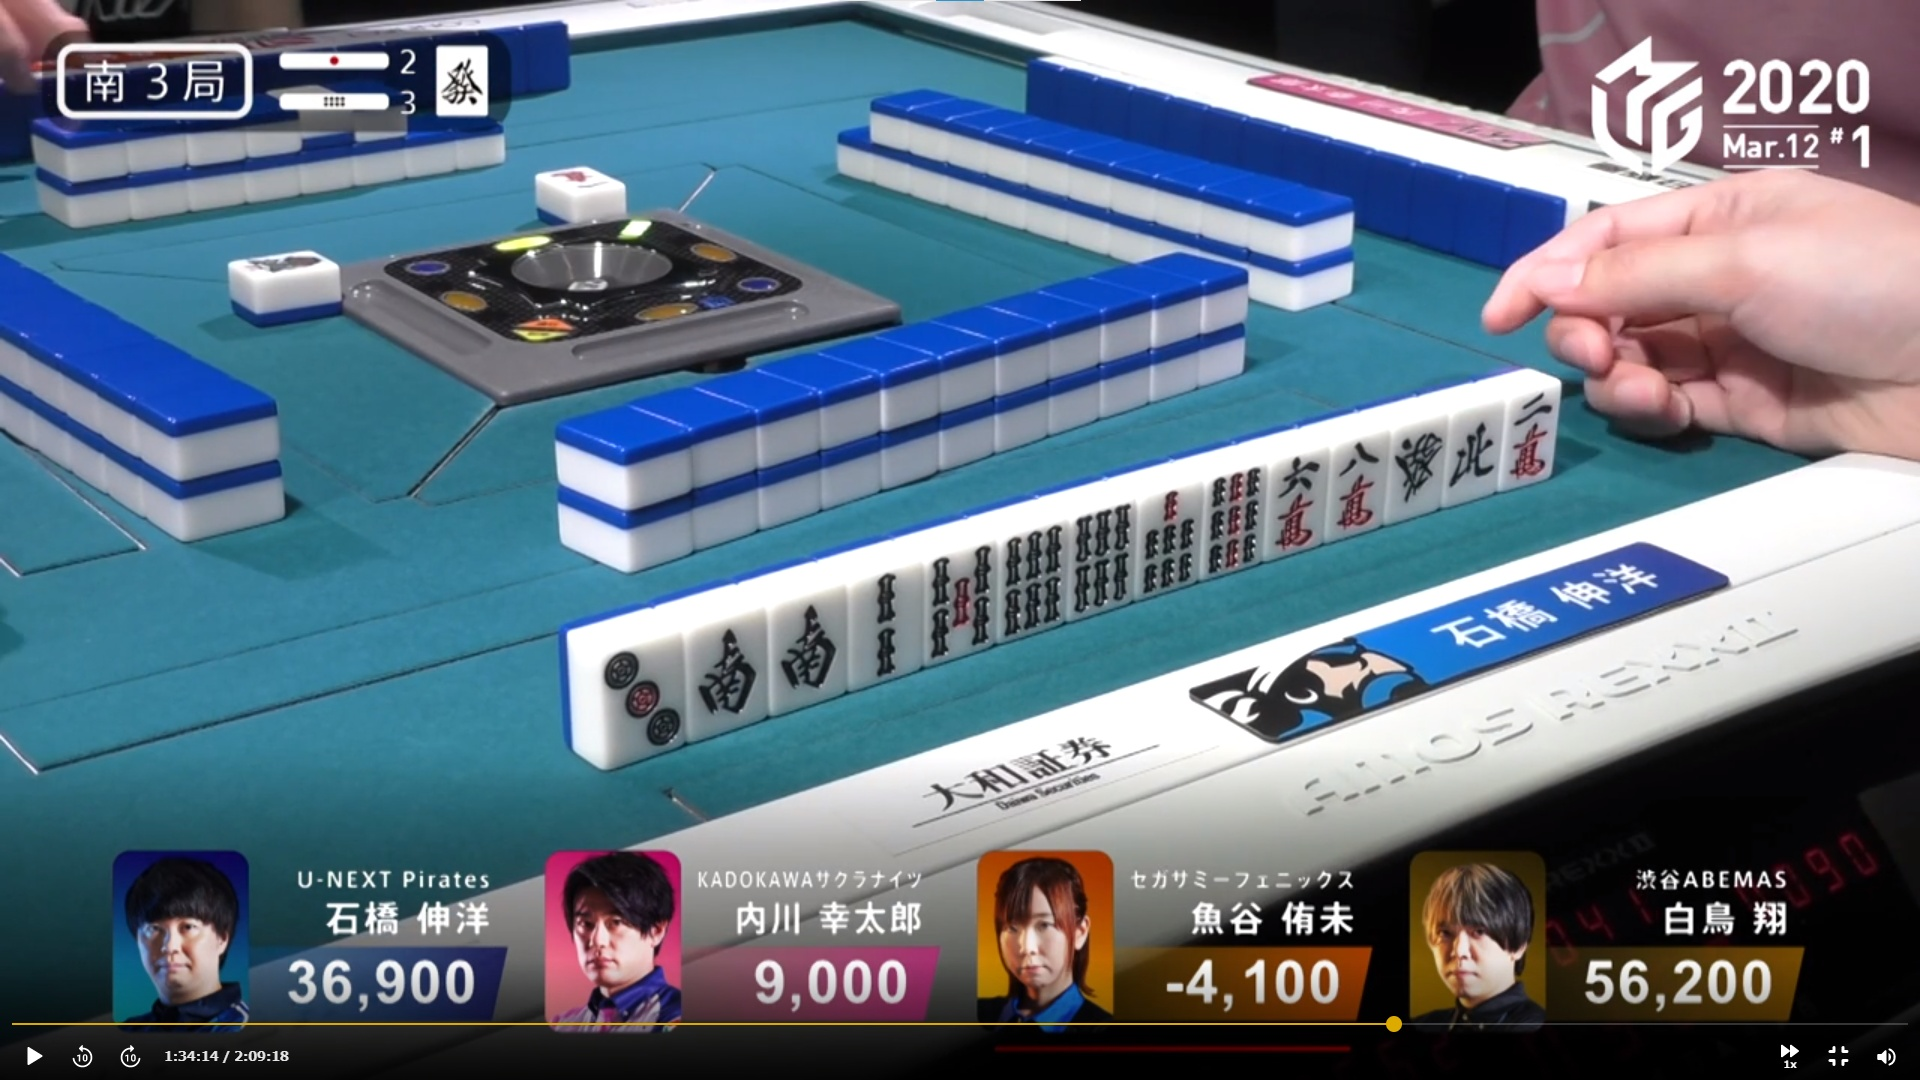2m: (1507, 371, 1549, 487)
2s: (853, 563, 916, 671)
3p: (603, 617, 683, 754)
5s: (920, 531, 988, 655)
6m: (1262, 430, 1321, 556)
6s: (1065, 487, 1130, 617), (996, 508, 1062, 634)
7s: (1135, 462, 1195, 599)
8m: (1320, 407, 1379, 541)
9s: (1201, 446, 1261, 576)
hand_nan_3: (49, 36, 274, 131)
hatsu: (1383, 396, 1445, 524)
nan: (769, 570, 849, 702), (691, 604, 758, 729)
pei: (1445, 377, 1497, 498)
round_3: (264, 83, 425, 119)
team_pirates: (1189, 620, 1447, 742)
